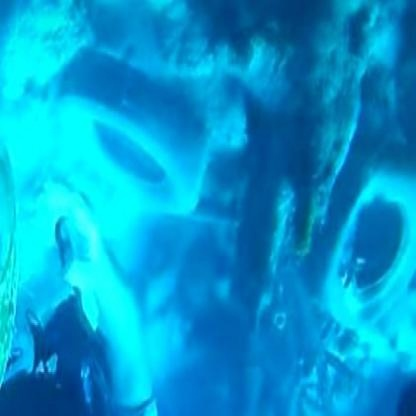tire: (86, 92, 223, 248), (326, 138, 416, 340)
